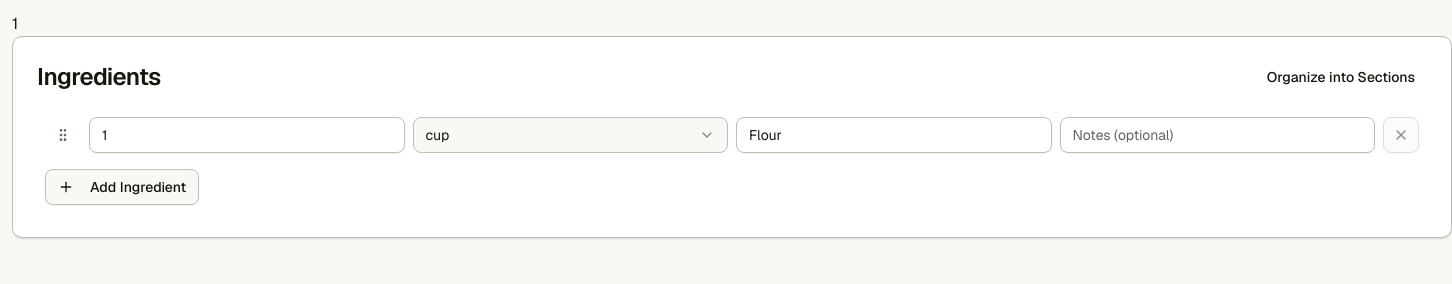
Test: RecipeIngredientsWithSections › shows a validation error for unparseable quantity input
Replace the text in the 1st field with placeholder "e.g. 1 3/4" with "abc" at coordinates (247, 135), box [89, 117, 404, 153]
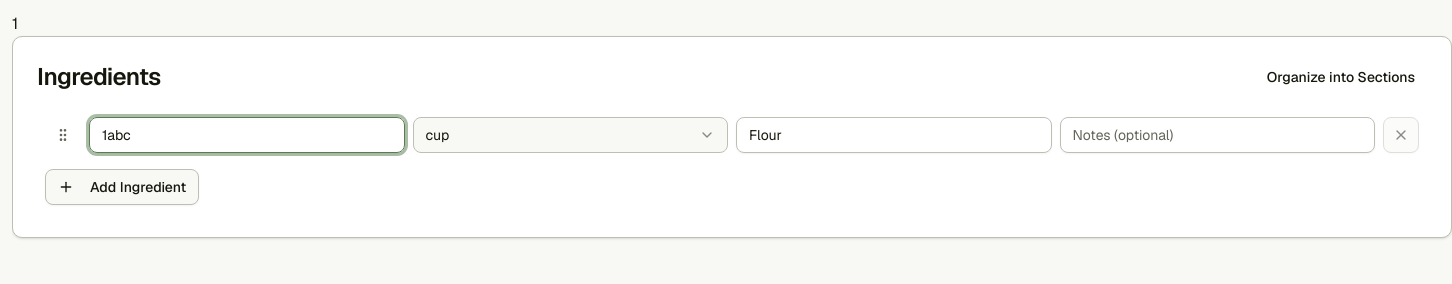
Press Tab
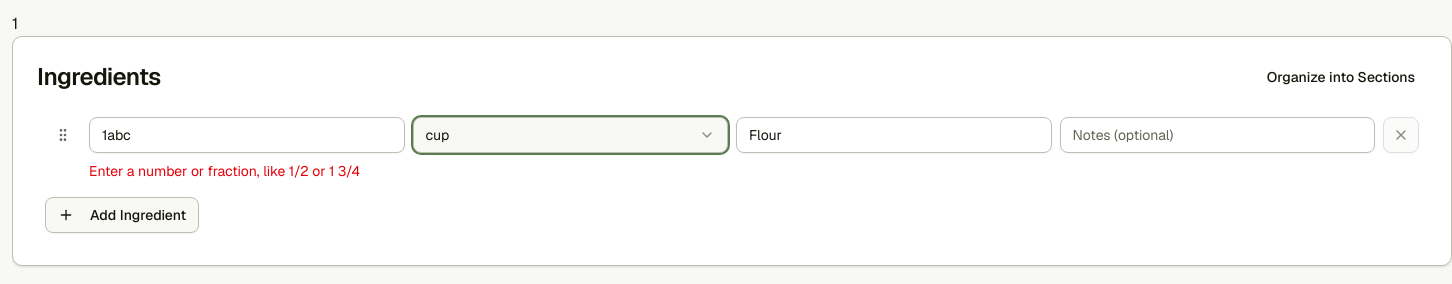
Now the text "Enter a number or fraction, like 1/2 or 1 3/4" is shown, box [89, 161, 404, 181]
